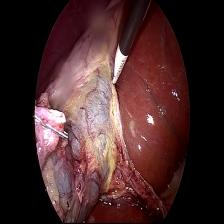Hook: (110, 44, 129, 92)
